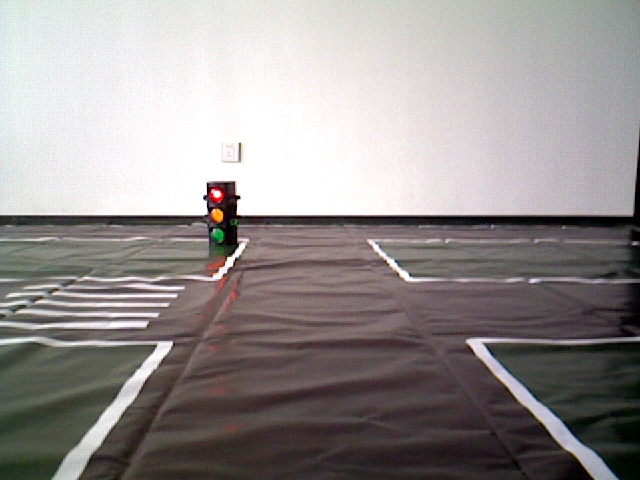red: (208, 183, 233, 244)
